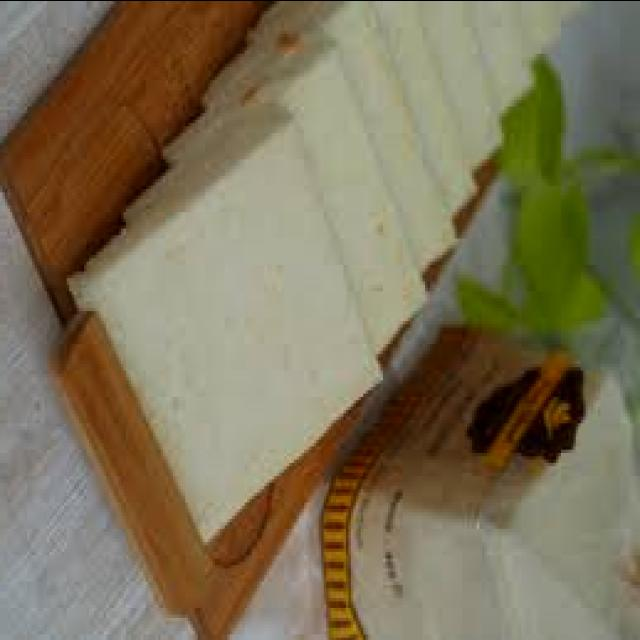roti tawar: (67, 122, 383, 541)
